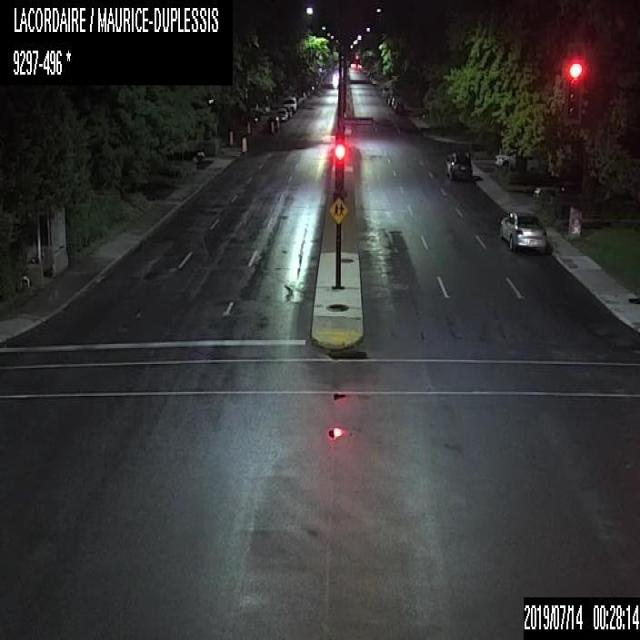construction: (227, 130, 233, 146), (240, 136, 245, 151), (246, 122, 252, 134)
vehicle: (498, 208, 548, 252), (532, 180, 578, 203), (442, 149, 474, 180), (493, 148, 535, 170), (167, 147, 202, 166), (282, 95, 298, 113), (393, 96, 407, 114), (267, 115, 280, 129), (248, 113, 259, 125), (276, 107, 286, 119), (270, 120, 274, 132)
